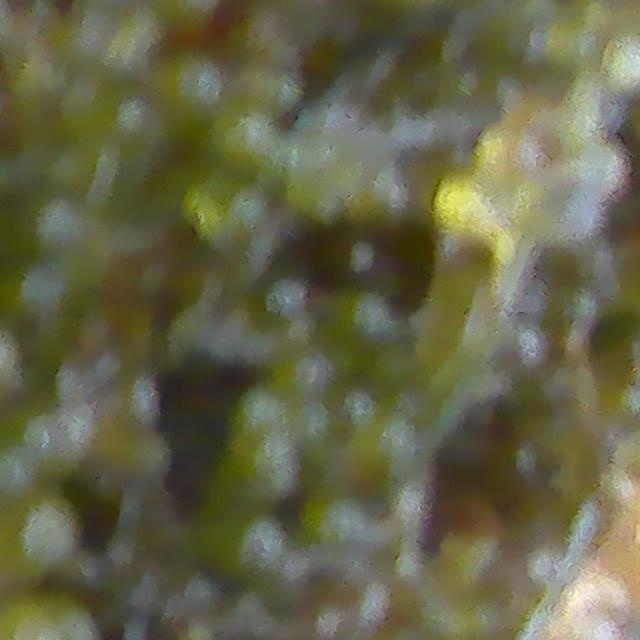SeaGrape: (154, 50, 227, 122), (601, 37, 639, 91)
